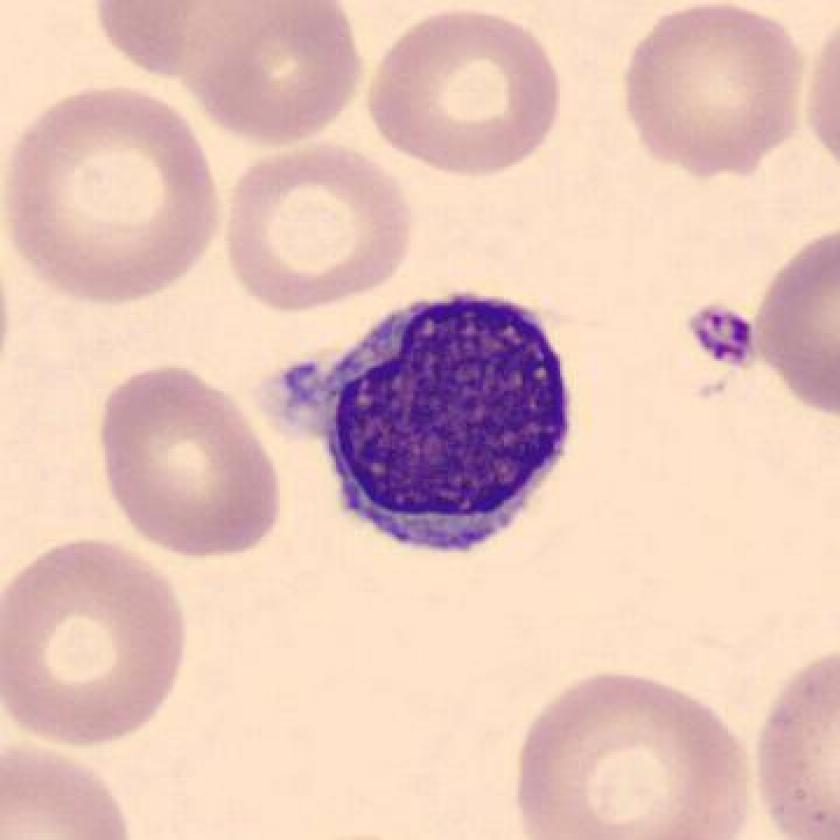lymphocyte: (275, 273, 611, 576)
platelets: (680, 302, 760, 376)
